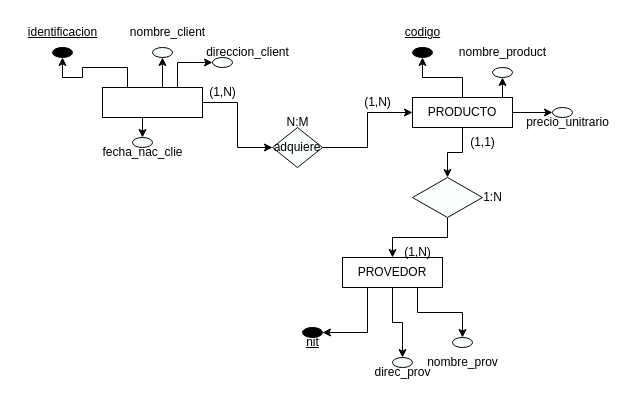
This 639x404 diagram has some shape labels left out. Each missing label, with the centre of its shape:
CLIENTES: pixel 152 102
suministra: pixel 447 197
